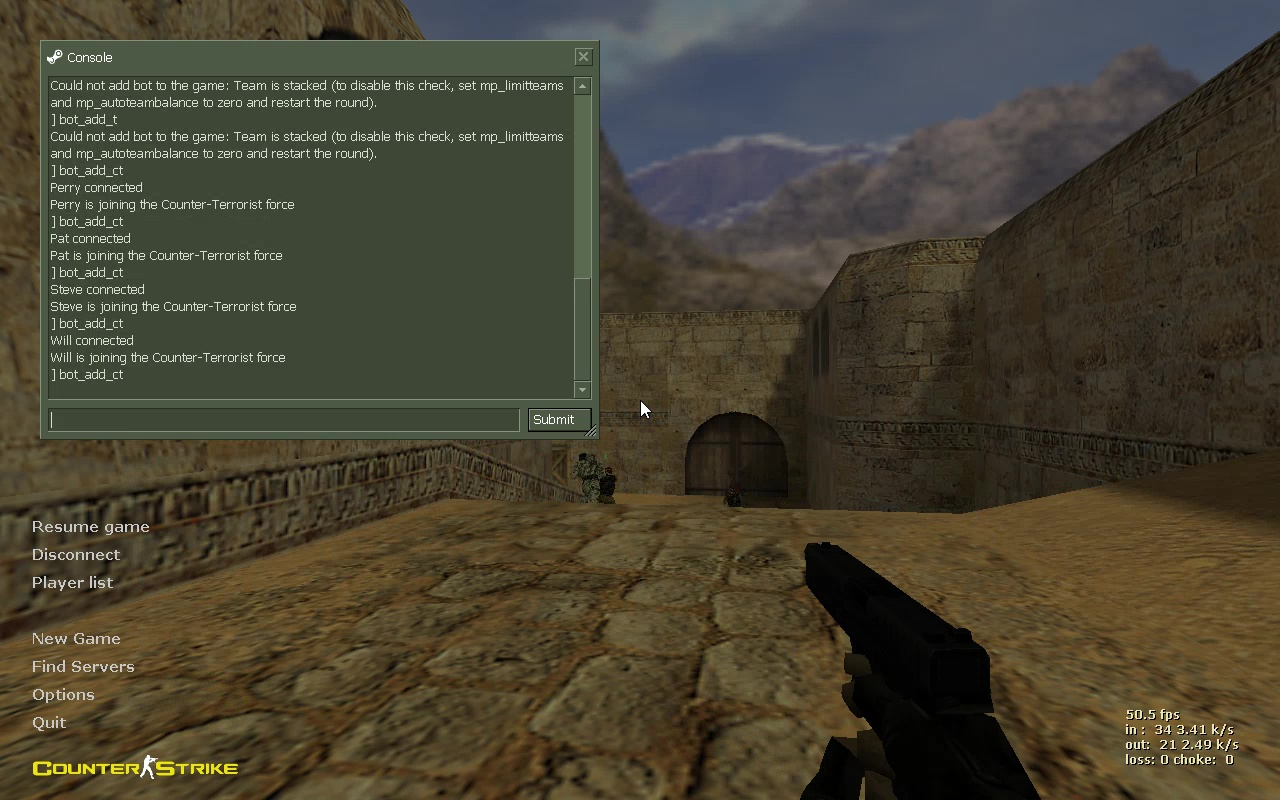terr1: (598, 469, 617, 509), (722, 491, 743, 513)
terr2: (573, 451, 598, 503)
